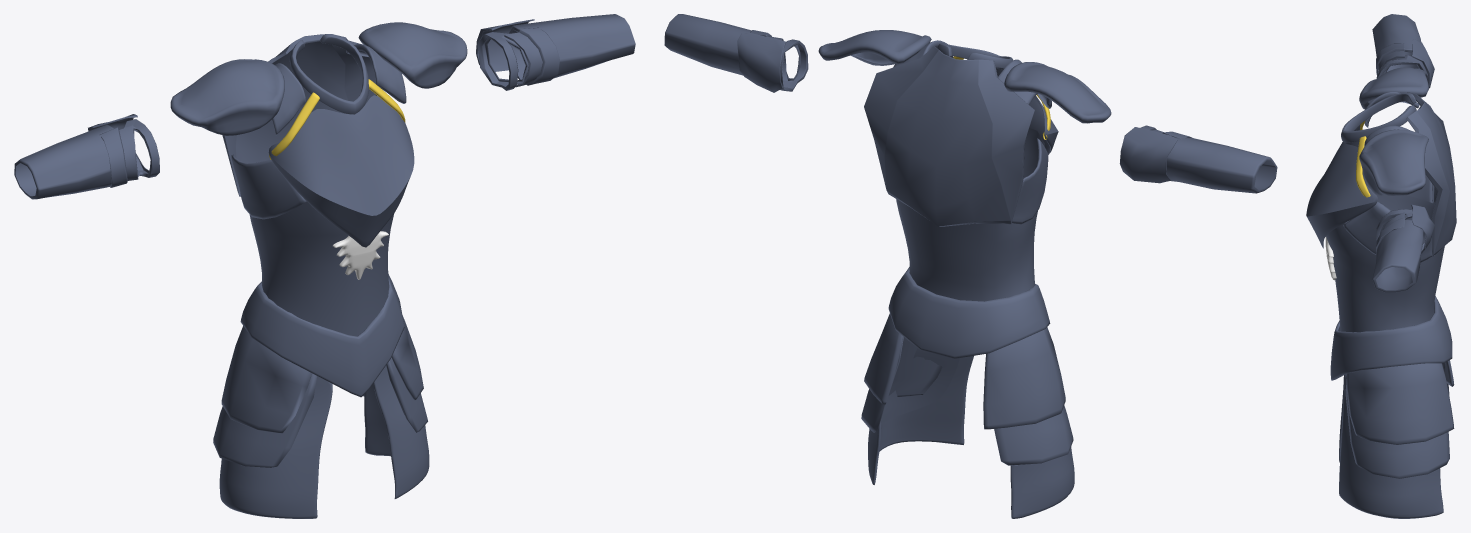
Rendered from Body_armor.fbx.
3 renders of one model, left to right at view 1: azimuth 30°, elevation 25°; view 2: azimuth 150°, elevation 25°; view 3: azimuth 270°, elevation 25°, orthographic. The views are drawn at different scales.
Visible parts, largest first — view 1: Cube.001, Cube.002; view 2: Cube.001, Cube.002; view 3: Cube.001, Cube.002.
Boxes of the visible parts, x1,y1,x2,y2 form: Cube.001: (170, 22, 467, 518); Cube.002: (14, 14, 635, 199); Cube.001: (818, 30, 1111, 518); Cube.002: (664, 14, 1277, 193); Cube.001: (1306, 67, 1456, 518); Cube.002: (1372, 14, 1434, 292).
Bounding box in the file's own units: 122 × 87.11 × 30.89.
